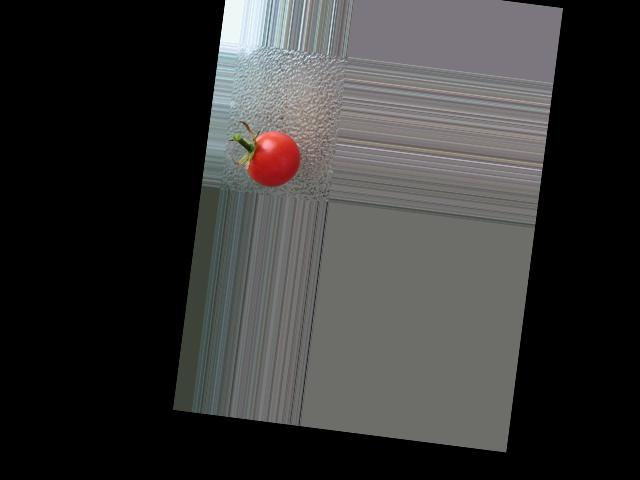tomato: (246, 127, 304, 189)
